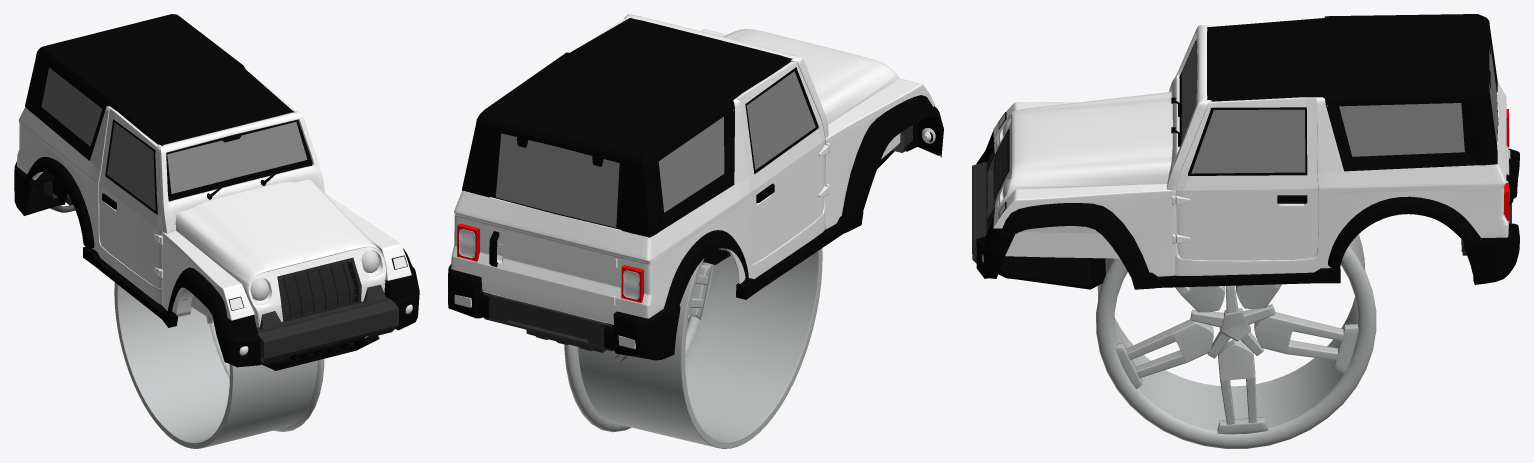
File: thar.glb
3 renders of one model, left to right at view 1: azimuth 30°, elevation 25°; view 2: azimuth 150°, elevation 25°; view 3: azimuth 270°, elevation 25°, orthographic. The views are drawn at different scales.
Parts seen in each view (by area): view 1: trim:13, rim:27, paint:9, paint:31, paint:11, trim:36, screen:29, glass:29, trim:37, paint:18, trim:38, paint:35 (+10 smaller); view 2: trim:13, rim:27, glass:29, paint:31, paint:22, paint:11, trim:38, trim:37, paint:9, paint:18, trim:15, trim:23 (+4 smaller); view 3: rim:27, trim:13, paint:31, paint:11, paint:9, glass:29, trim:38, paint:32, trim:37, paint:28, trim:20, trim:14 (+4 smaller).
Part boxes in pixels (bbox=[...]): trim:13: bbox=[25, 14, 293, 160]; rim:27: bbox=[114, 282, 324, 448]; paint:9: bbox=[175, 179, 379, 283]; paint:31: bbox=[17, 106, 324, 304]; paint:11: bbox=[99, 73, 295, 288]; trim:36: bbox=[257, 284, 398, 364]; screen:29: bbox=[167, 122, 307, 193]; glass:29: bbox=[41, 67, 155, 210]; trim:37: bbox=[14, 161, 419, 367]; paint:18: bbox=[161, 230, 254, 320]; trim:38: bbox=[25, 157, 412, 318]; paint:35: bbox=[249, 247, 385, 327]; trim:13: bbox=[462, 18, 793, 237]; rim:27: bbox=[564, 248, 822, 448]; glass:29: bbox=[495, 71, 815, 227]; paint:31: bbox=[451, 14, 828, 324]; paint:22: bbox=[483, 197, 620, 323]; paint:11: bbox=[578, 18, 829, 305]; trim:38: bbox=[664, 95, 935, 308]; trim:37: bbox=[448, 106, 943, 360]; paint:9: bbox=[723, 29, 895, 123]; paint:18: bbox=[825, 78, 934, 229]; trim:15: bbox=[483, 293, 613, 351]; trim:23: bbox=[490, 67, 818, 229]; rim:27: bbox=[1096, 234, 1376, 448]; trim:13: bbox=[1207, 14, 1497, 171]; paint:31: bbox=[1166, 25, 1508, 275]; paint:11: bbox=[1172, 25, 1510, 260]; paint:9: bbox=[1009, 91, 1172, 186]; glass:29: bbox=[1191, 45, 1498, 173]; trim:38: bbox=[1001, 196, 1480, 277]; paint:32: bbox=[993, 184, 1175, 276]; trim:37: bbox=[976, 131, 1519, 284]; paint:28: bbox=[994, 114, 1146, 258]; trim:20: bbox=[998, 256, 1105, 289]; trim:14: bbox=[1131, 268, 1340, 289].
Bounding box in the file's own units: 1.87 × 2.92 × 3.89.
Materials: 39 (8 with a texture image).
